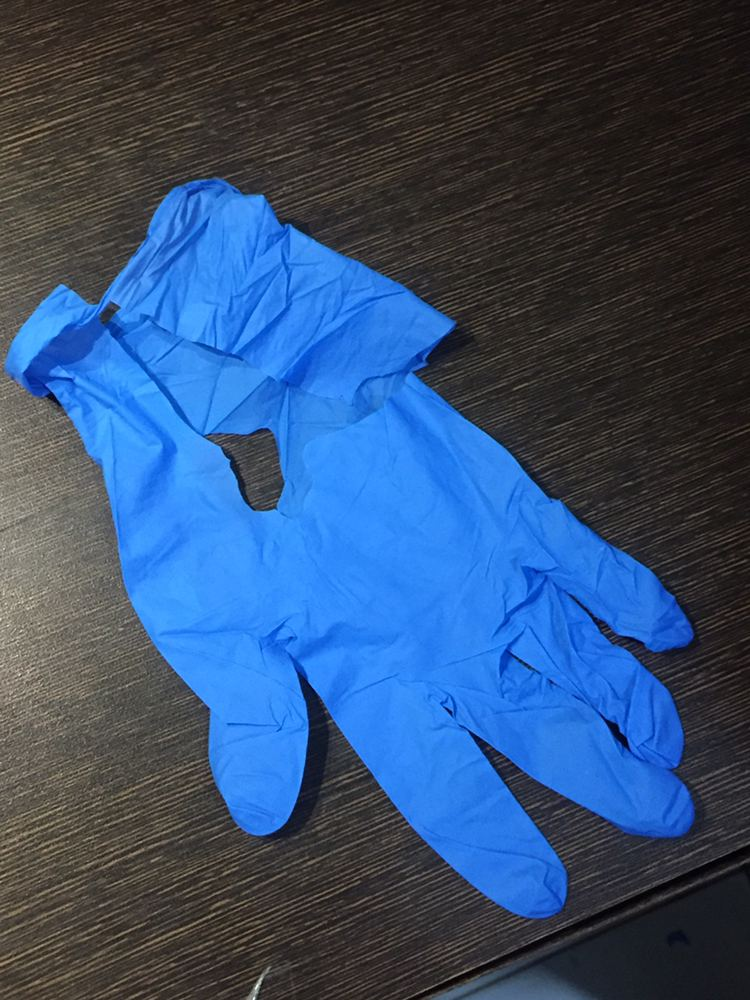defected: (15, 163, 750, 905)
